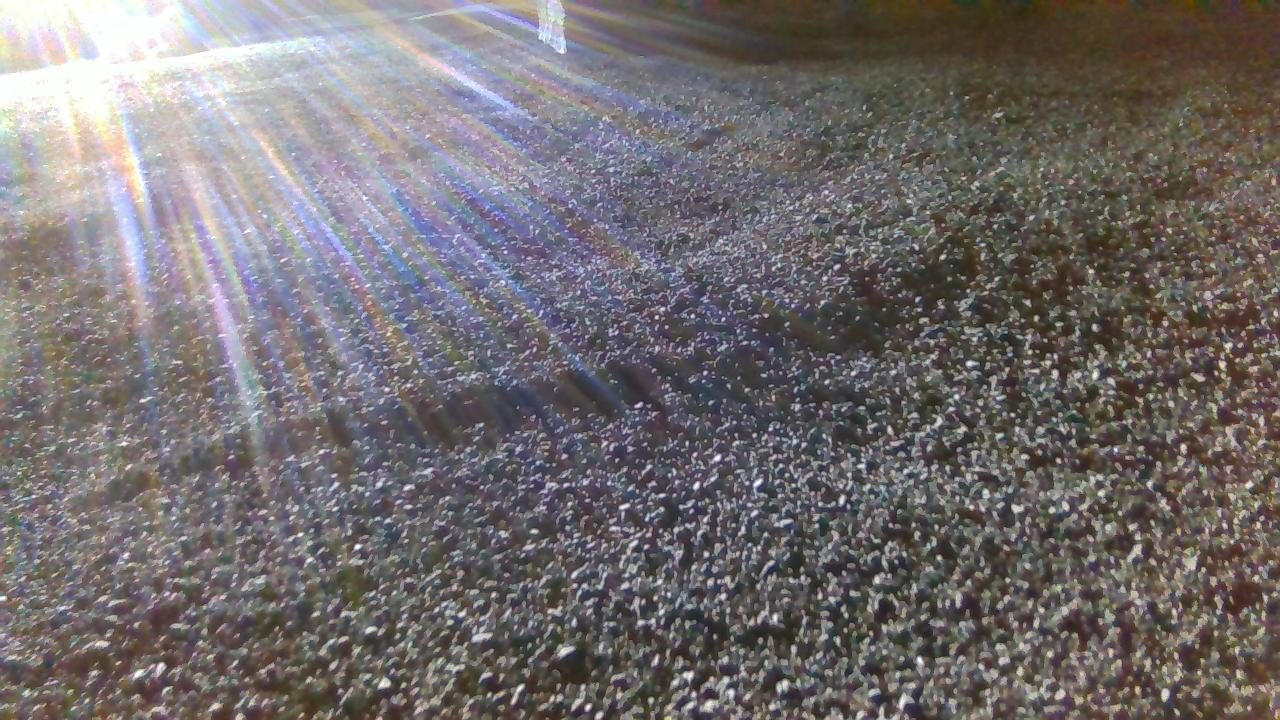rock: (541, 0, 567, 51)
